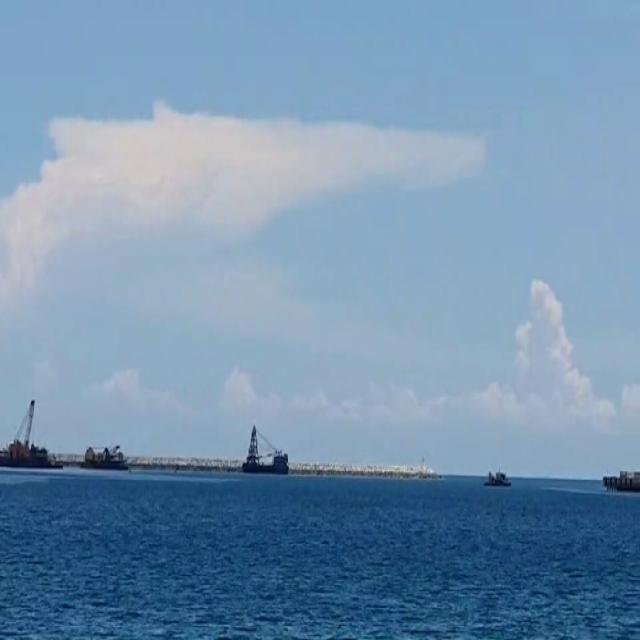civilianship: (3, 399, 64, 481), (234, 416, 301, 486), (84, 431, 135, 492), (470, 471, 521, 504)
